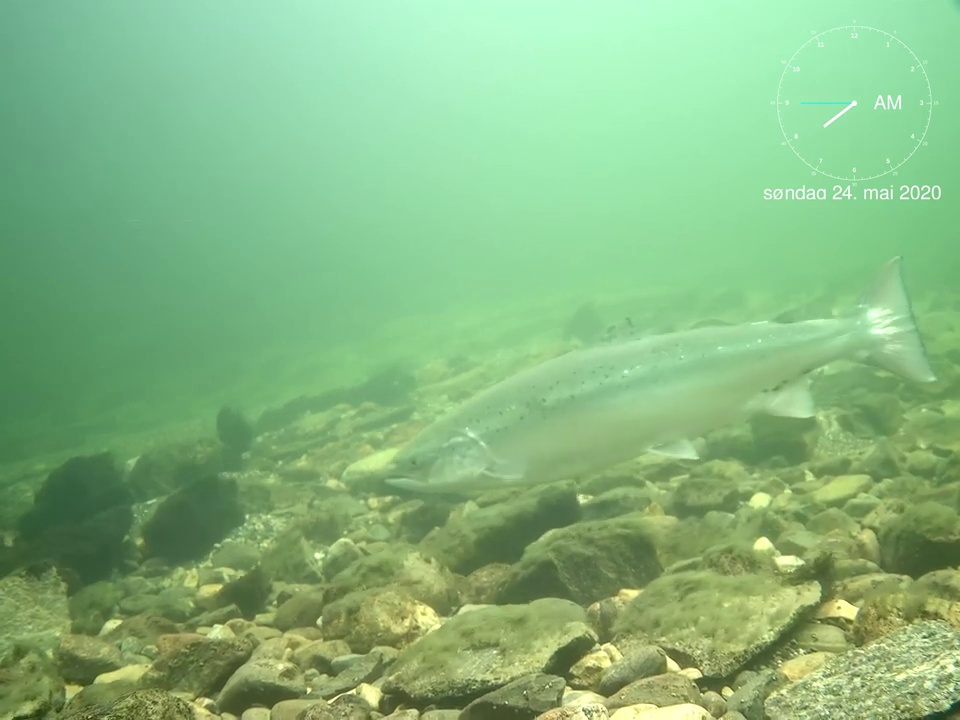salmon: (381, 252, 941, 499)
